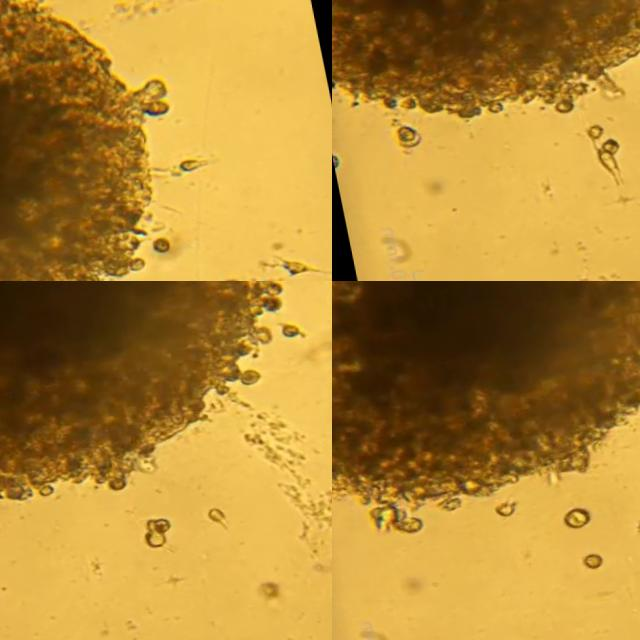cell: (387, 126, 415, 149), (588, 152, 608, 180), (554, 511, 580, 530), (138, 524, 156, 550), (174, 162, 205, 176), (590, 139, 608, 158), (275, 267, 299, 281), (200, 511, 217, 528), (573, 556, 592, 571), (485, 503, 505, 517), (146, 242, 167, 255), (143, 521, 160, 536), (276, 329, 294, 343), (627, 520, 640, 534), (579, 127, 590, 141)
tumor_mass: (332, 281, 640, 534)
